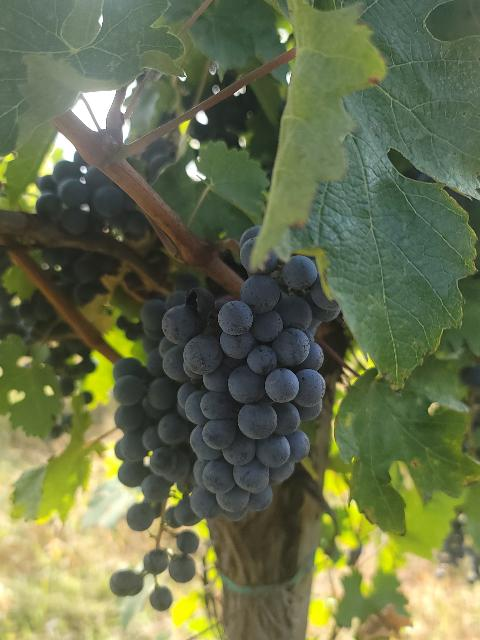grapes: (162, 252, 340, 519), (240, 231, 259, 270)
